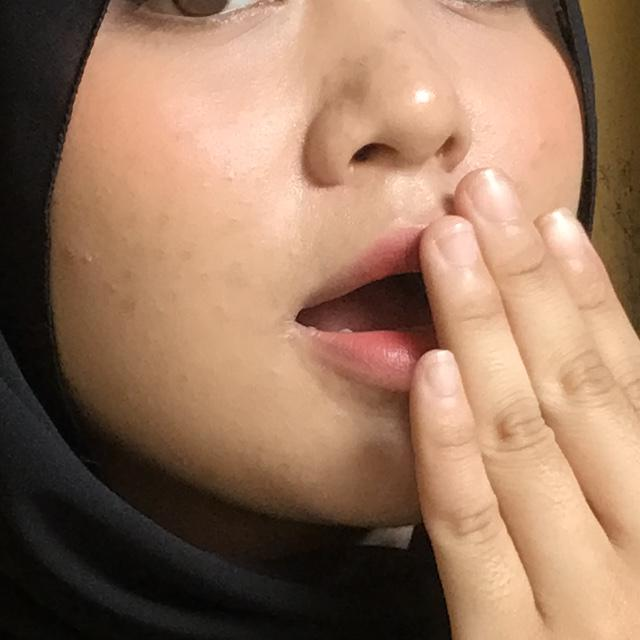ngantuk: (260, 116, 640, 640)
